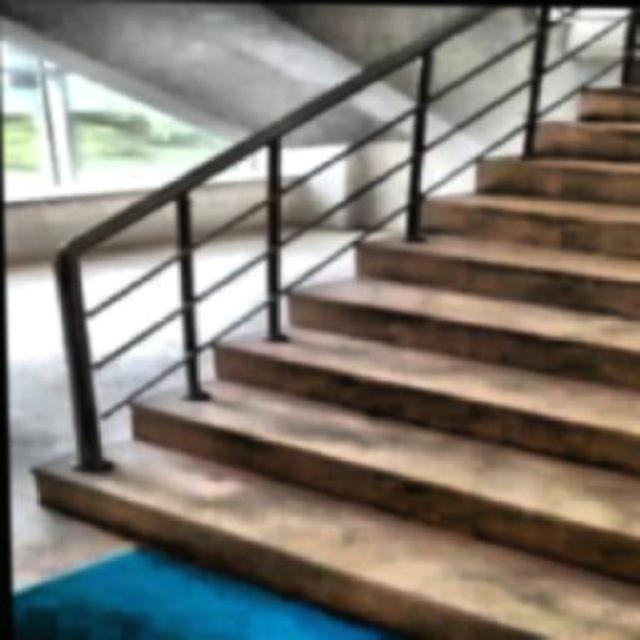stair: (7, 14, 638, 638)
